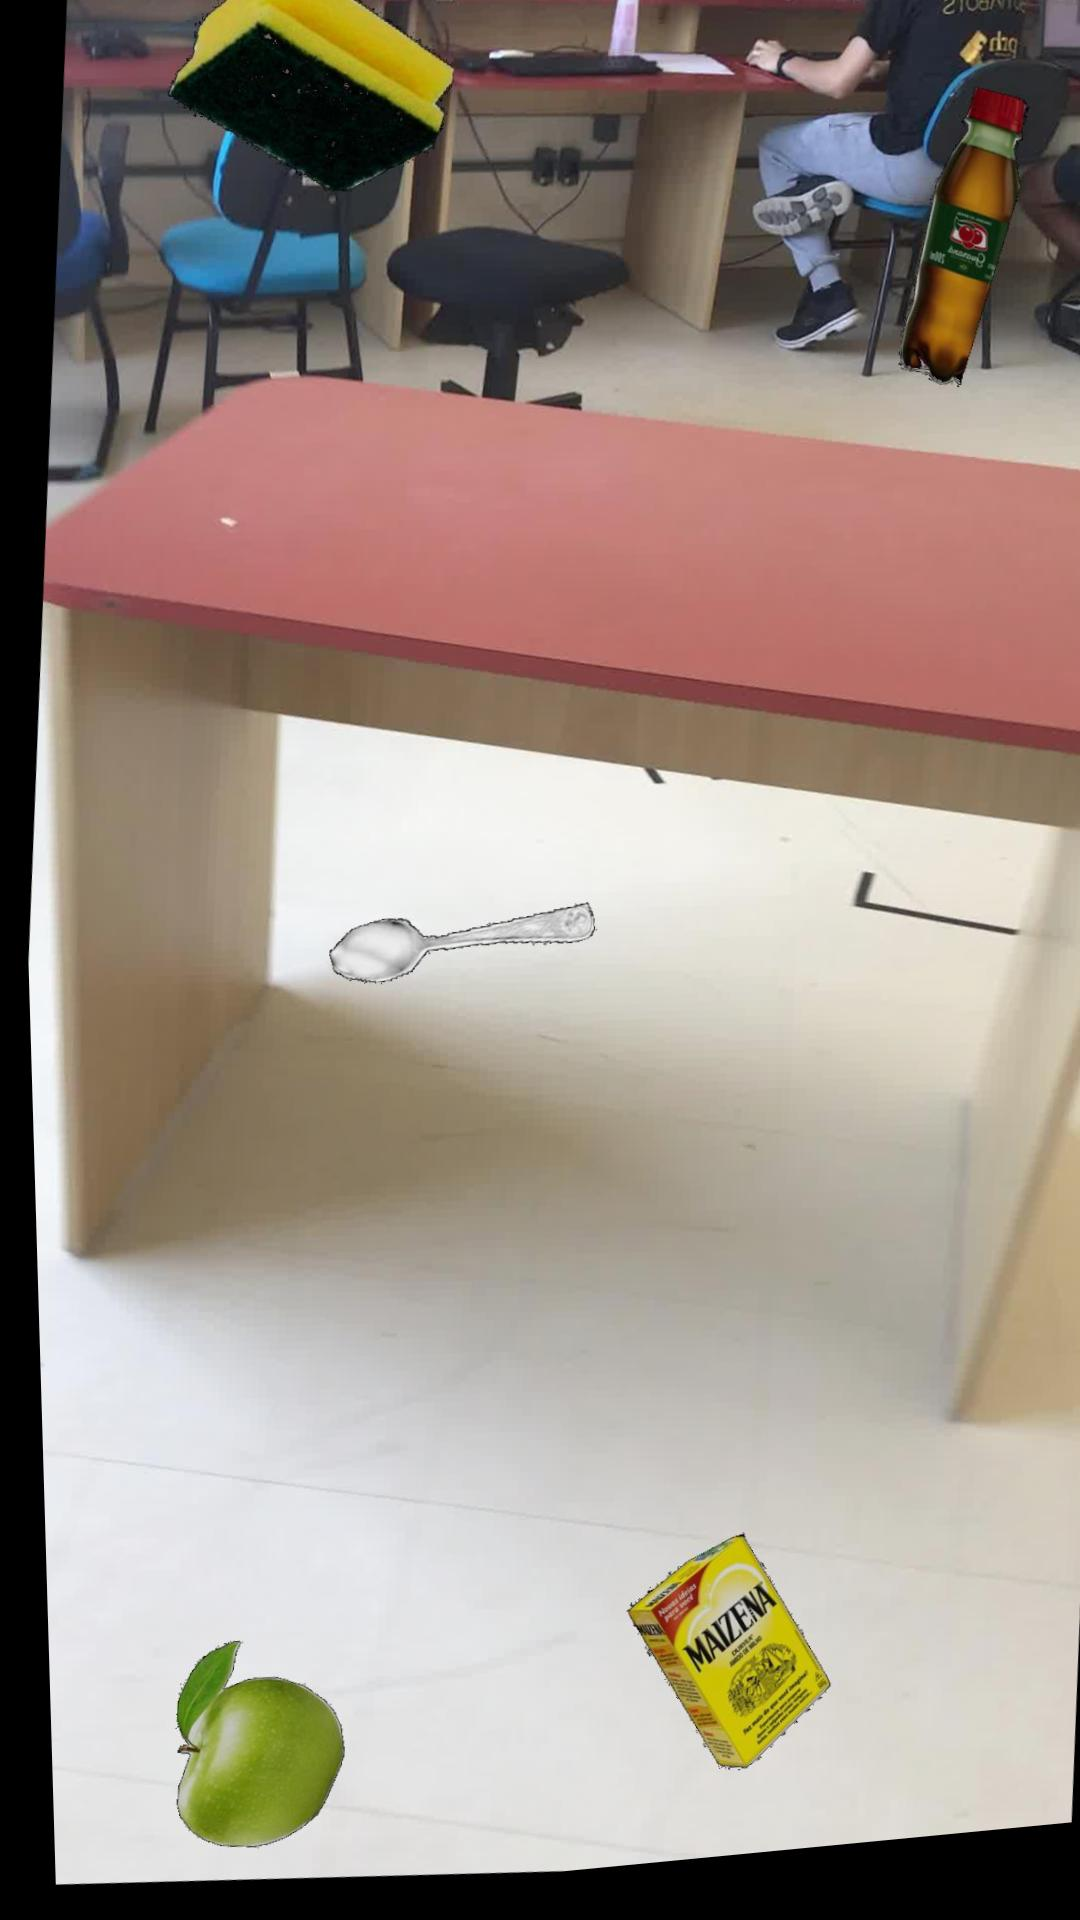green apple: (165, 1642, 334, 1849)
guarana: (897, 104, 1029, 402)
sponge: (167, 0, 454, 196)
spoon: (323, 911, 589, 988)
